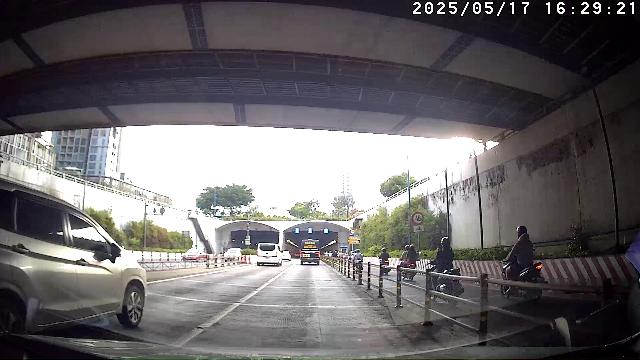127-toc-do-toi-da-40: (412, 211, 424, 224)
